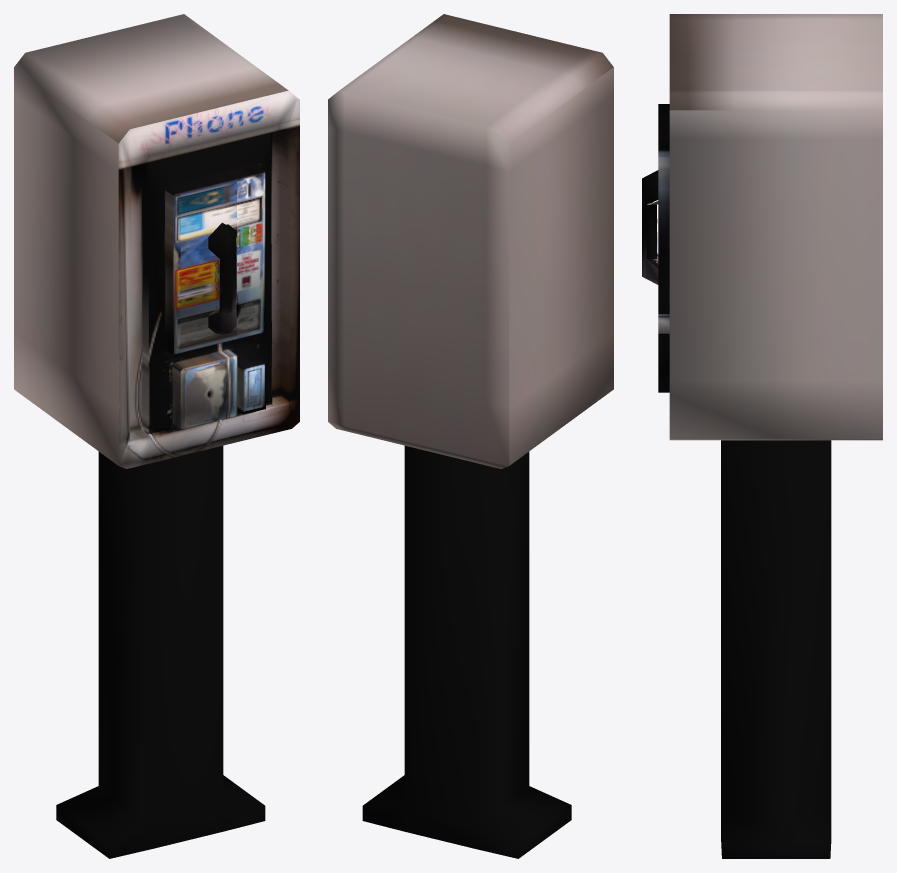
File: Telefone.fbx
3 renders of one model, left to right at view 1: azimuth 30°, elevation 25°; view 2: azimuth 150°, elevation 25°; view 3: azimuth 270°, elevation 25°, orthographic.
Parts seen in each view (by area): view 1: TelefonePublico; view 2: TelefonePublico; view 3: TelefonePublico.
Part boxes in pixels (x1,y1,x2,y2): TelefonePublico: [14, 14, 299, 858]; TelefonePublico: [328, 14, 613, 858]; TelefonePublico: [642, 14, 882, 858].
Bounding box in the file's own units: 36.29 × 40.96 × 144.
